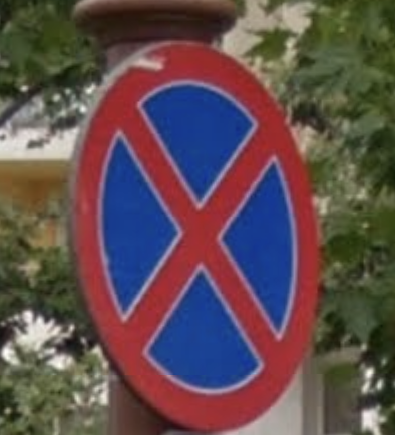oprirea_interzisa: (68, 32, 322, 430)
